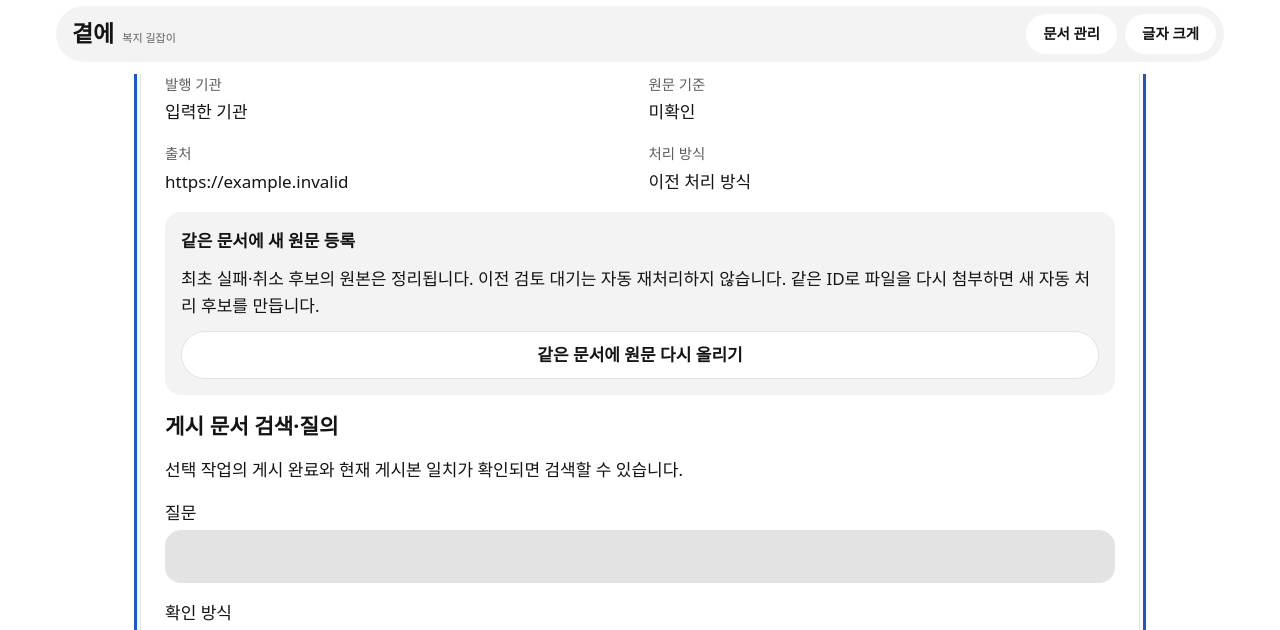
기존 awaiting_review 문서는 몰래 재처리하지 않고 같은 ID 재첨부를 제공한다
(page scrolled)
What coordinates should you click on to do the following:
click the button "같은 문서에 원문 다시 올리기"
I would click on:
 (640, 355)
Its box is [181,331,1099,379].
(page scrolled)
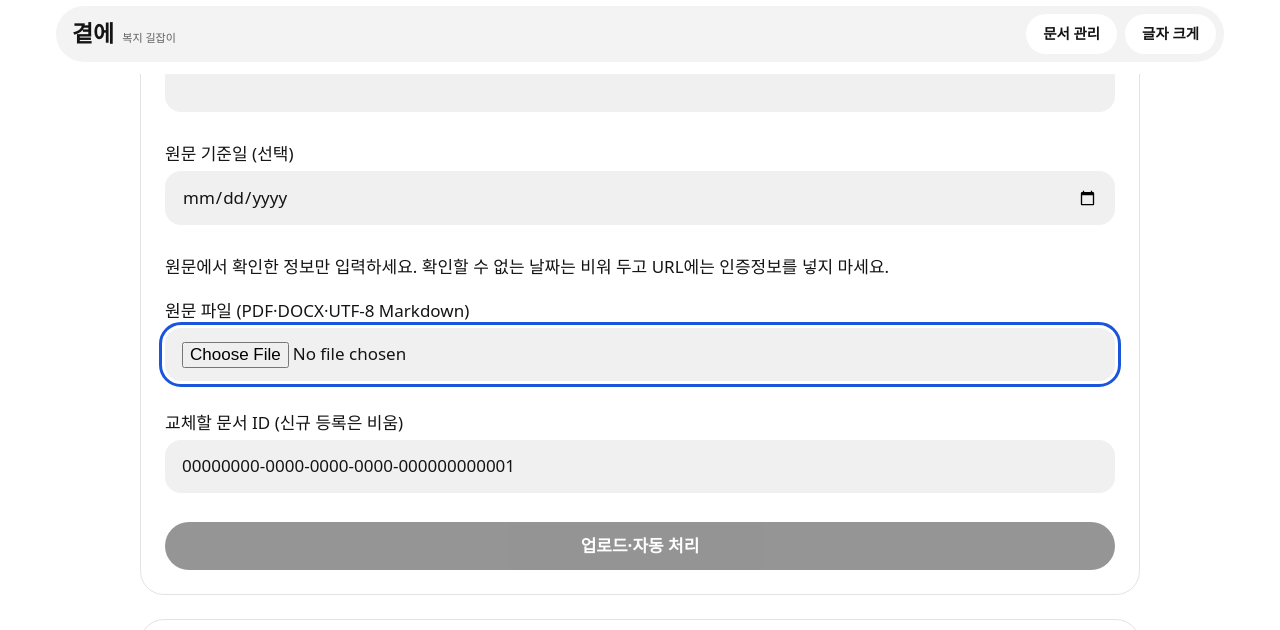
expect the field labelled "교체할 문서 ID (신규 등록은 비움)" holds "00000000-0000-0000-0000-000000000001": met, box [165,440,1115,493]
